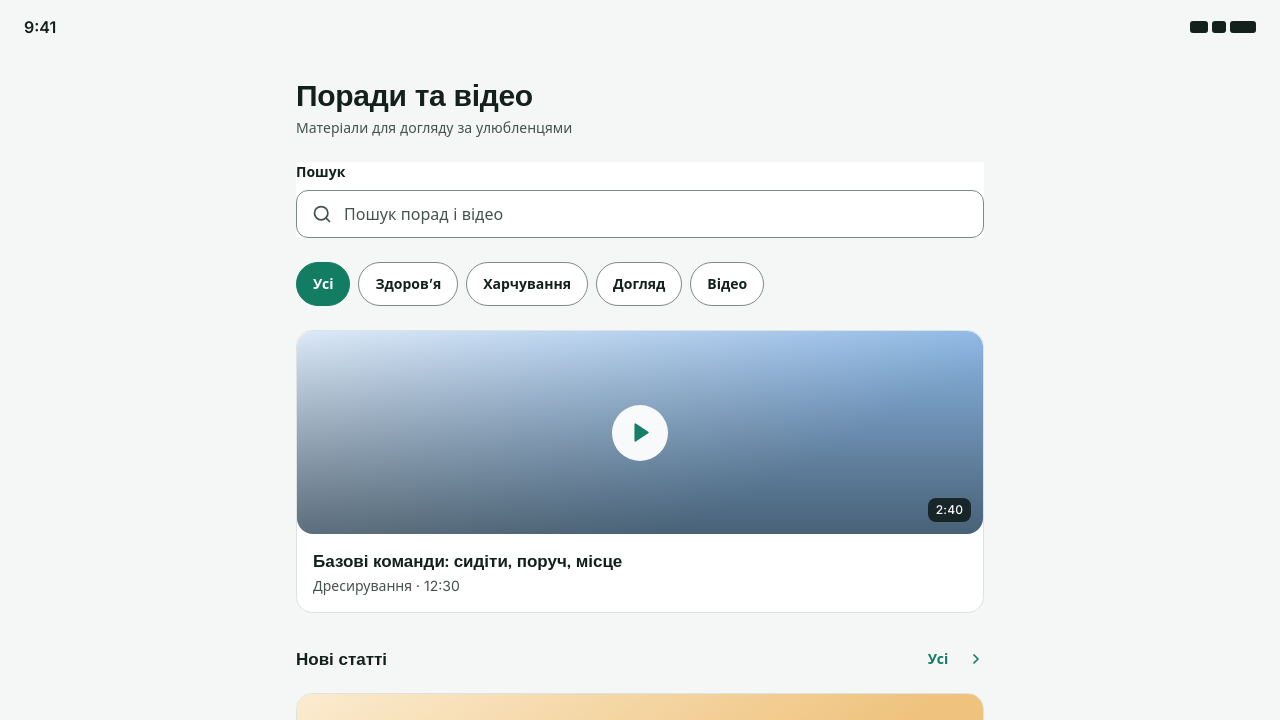
Scenario: Екран «Поради та відео» › пошук без збігів показує повідомлення
Type "ящірка" into the search field labelled "Пошук" at (664,214), box [344,191,983,237]
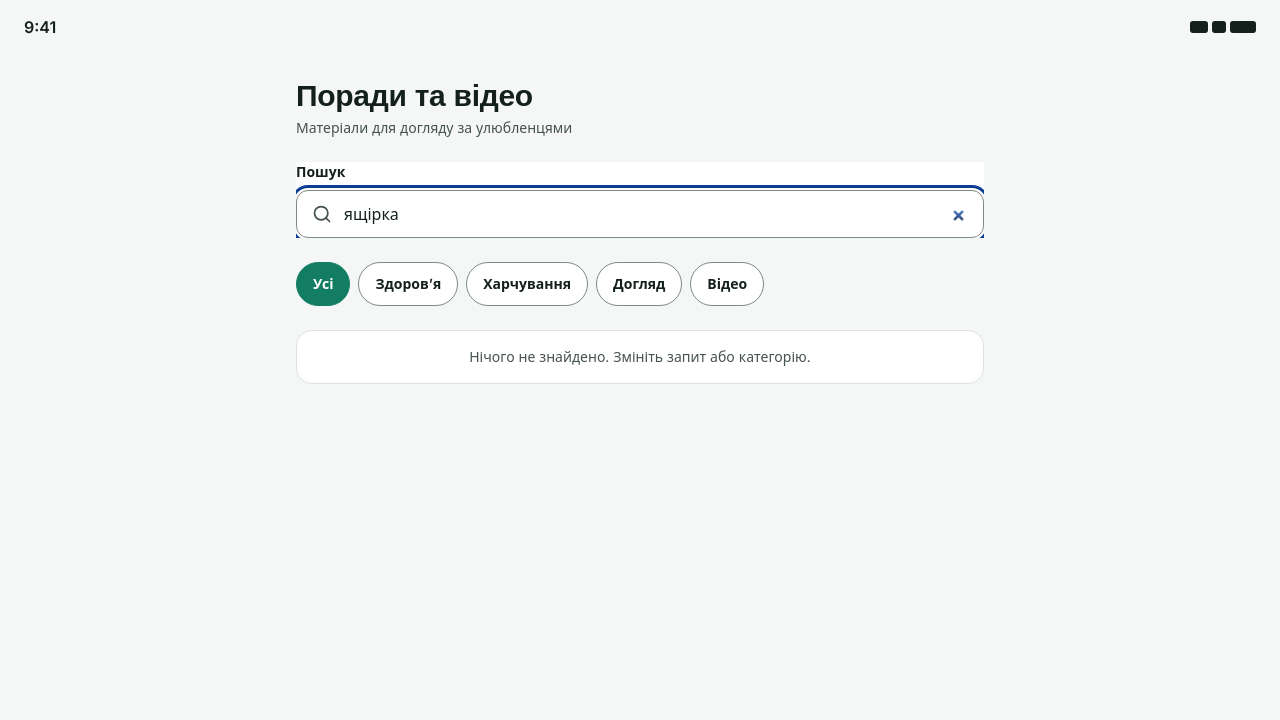
Expected: the text "Нічого не знайдено. Змініть запит або категорію." is shown, [296,330,984,384]
